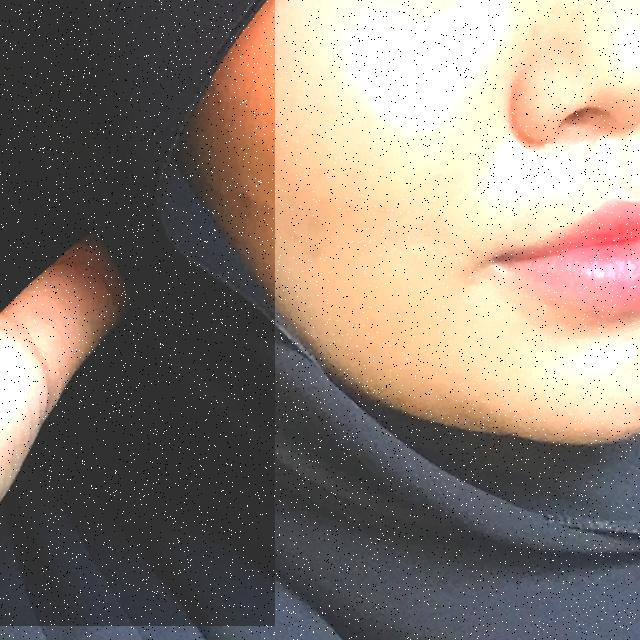mendengar: (0, 0, 275, 626)
